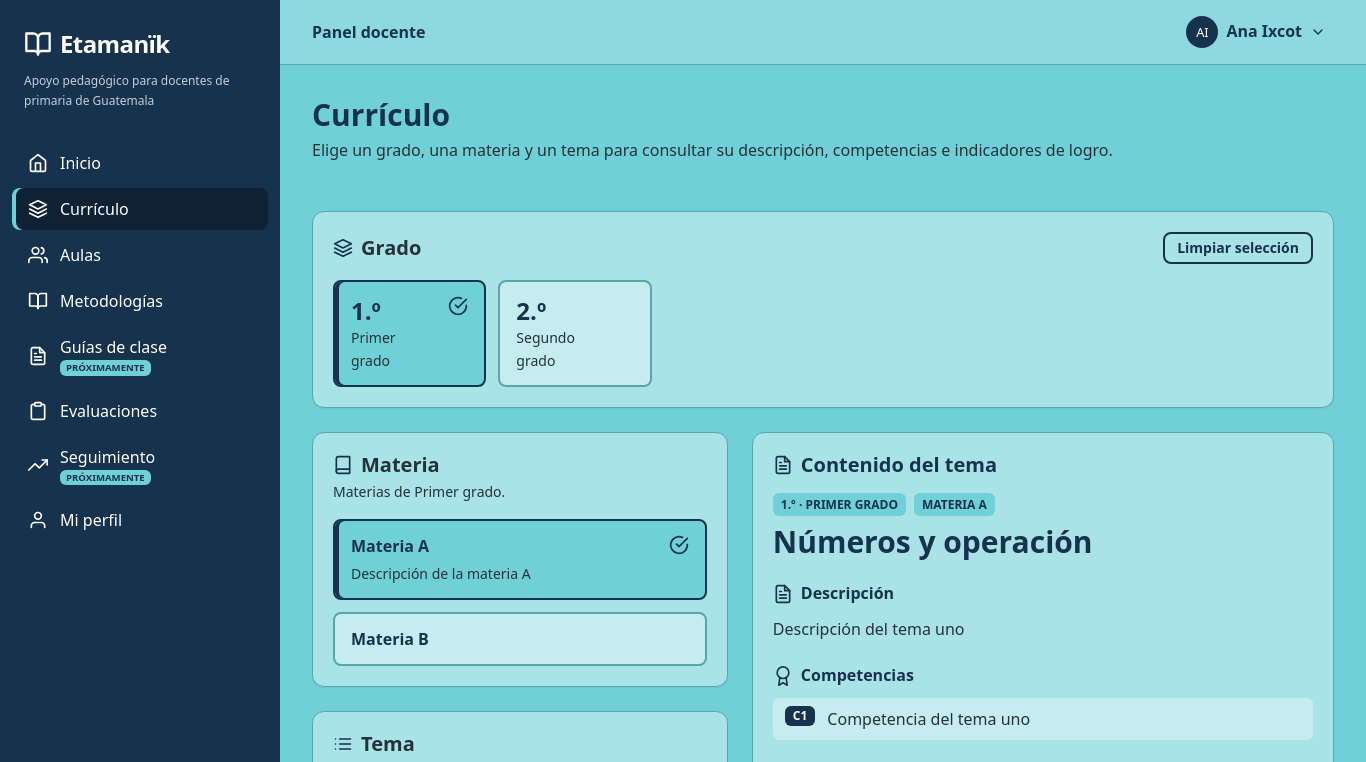
it: Página de currículo › solo muestra las materias del grado elegido y al cambiar de grado borra materia y tema
The image size is (1366, 762).
Expected: the heading "Números y operación" is shown, [773, 521, 1093, 562]
Click the radio button labelled "2.º Segundo grado" at (575, 333), box [498, 280, 652, 386]
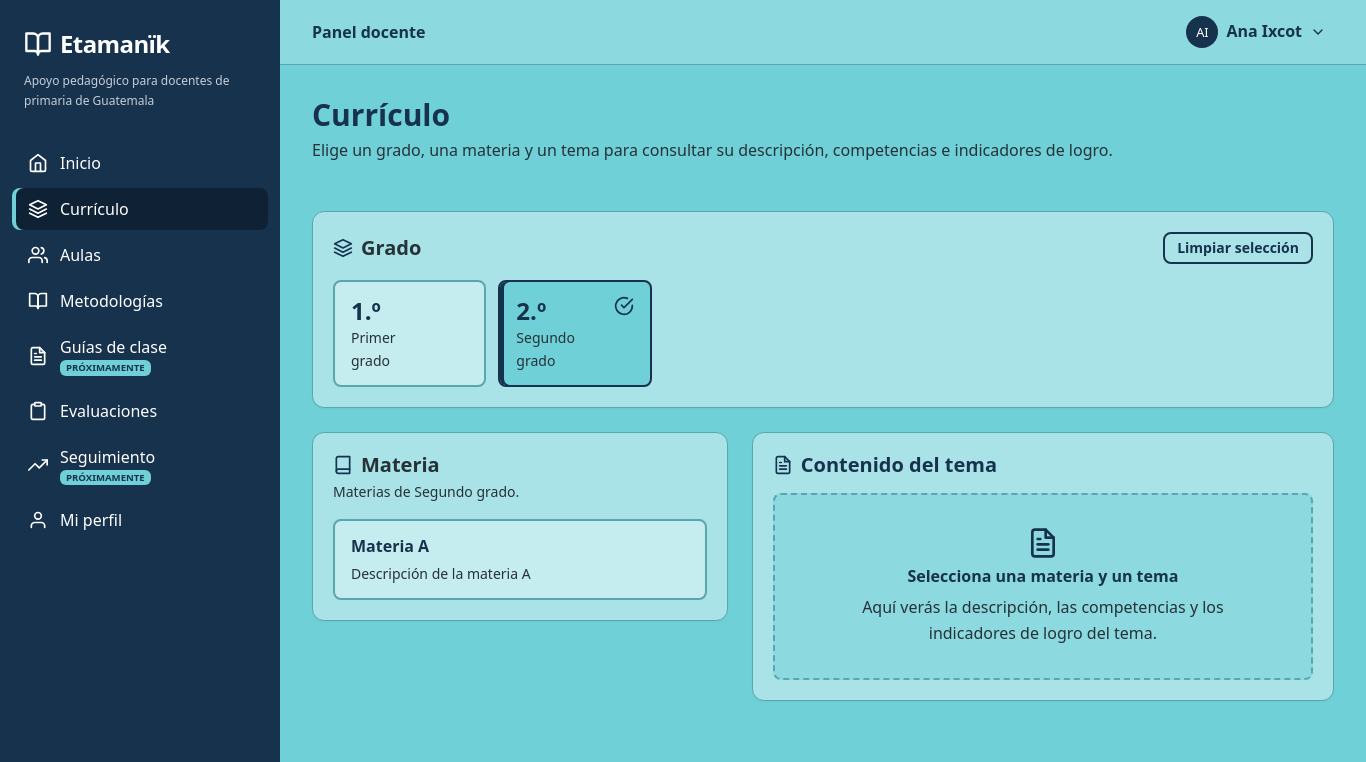
Now the radio button labelled "Materia A Descripción de la materia A" is not checked, box [333, 519, 707, 600]
Now the text "Materia B" is gone
